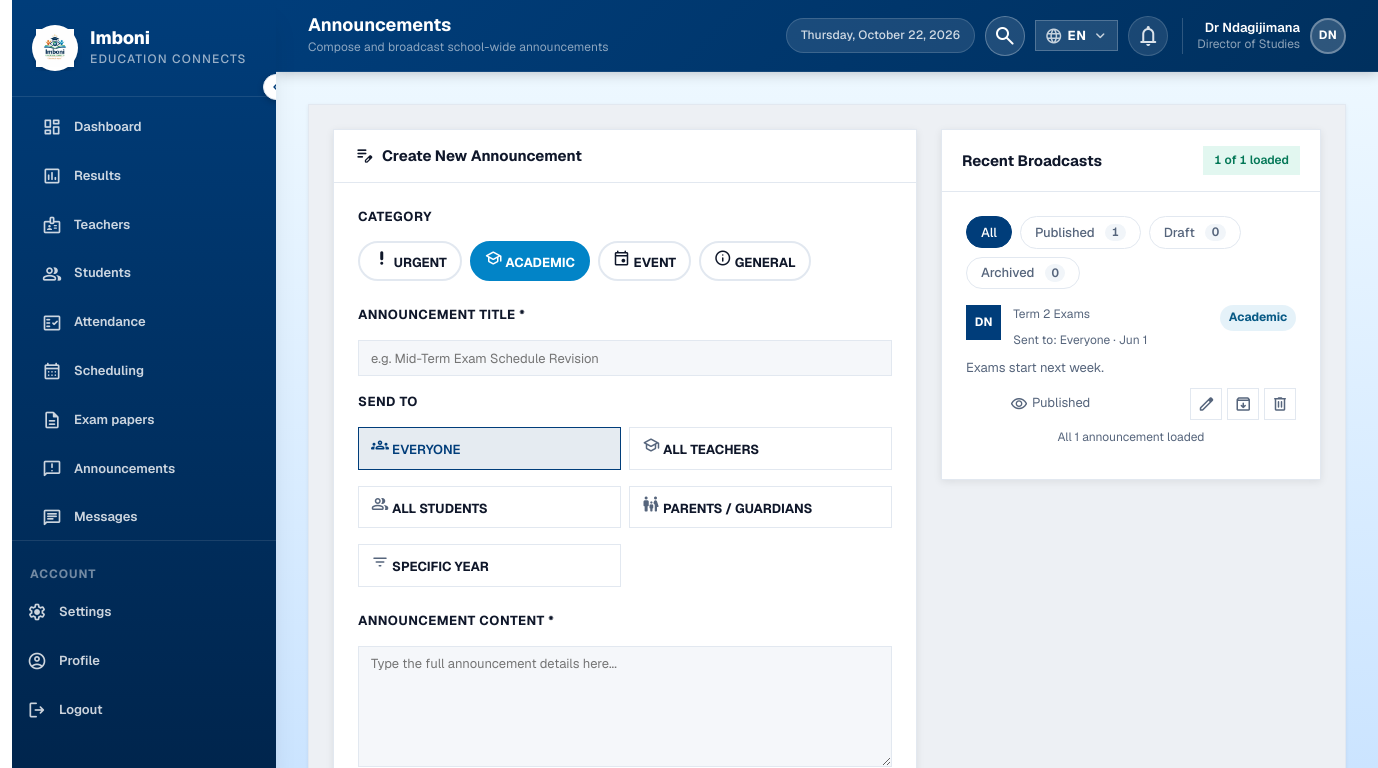
Test case: DosAnnouncement › deletes an announcement after confirming
The width and height of the screenshot is (1378, 768).
Expected: the text "Term 2 Exams" is shown, [1013,305,1090,324]
Click the button titled "Delete": (1280, 404) [1264,388,1296,420]
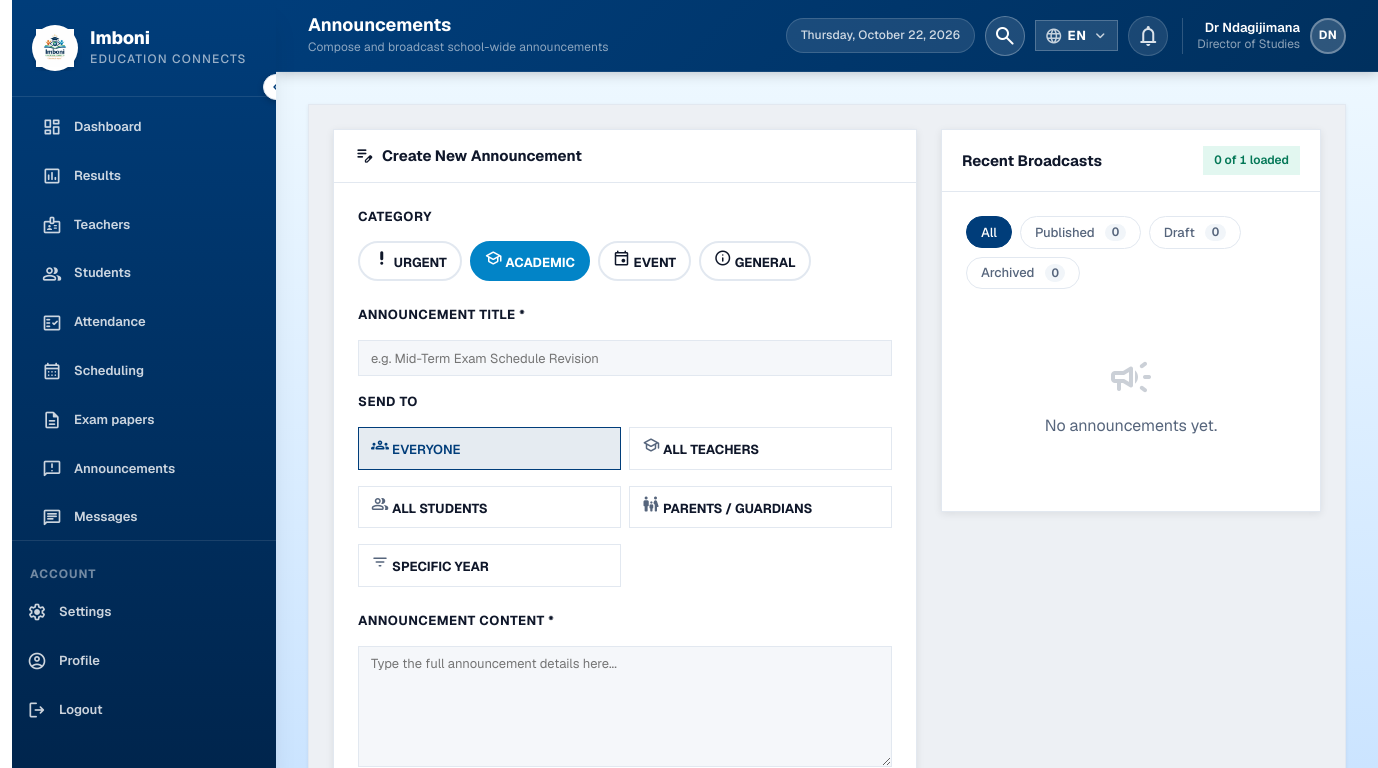
Now the text "Term 2 Exams" is gone
